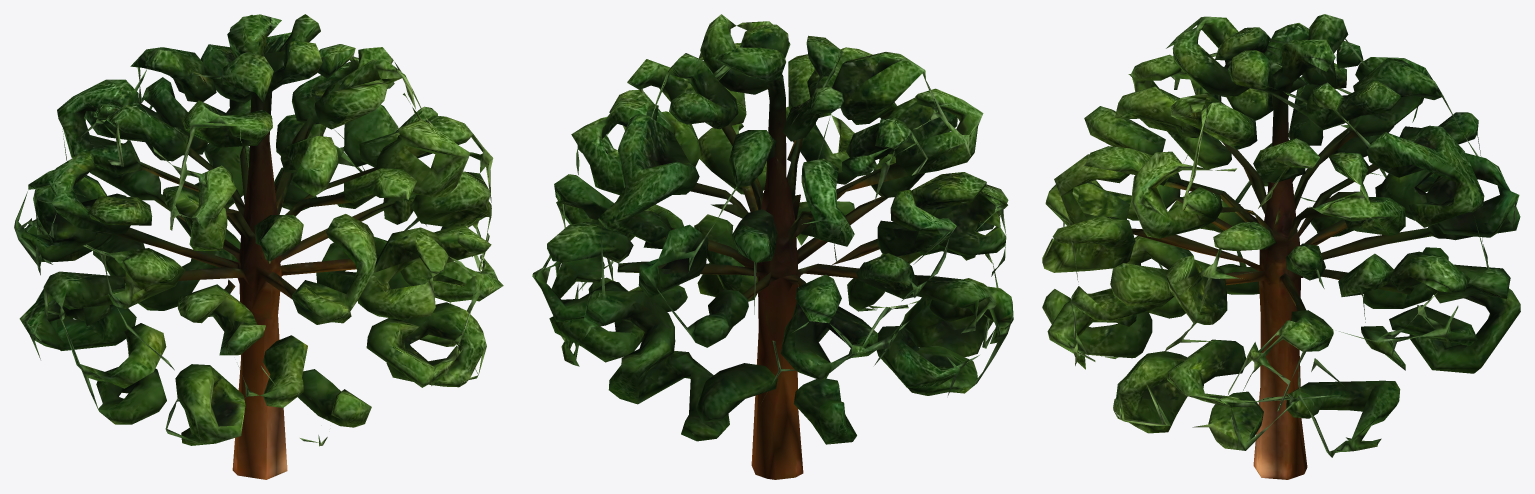
The model's file is roundtree-3.glb.
3 renders of one model, left to right at view 1: azimuth 30°, elevation 25°; view 2: azimuth 150°, elevation 25°; view 3: azimuth 270°, elevation 25°, orthographic.
Visible parts, largest first — view 1: tripo_node_32b8f1ef-17a1-46be-826f-8de912c16883; view 2: tripo_node_32b8f1ef-17a1-46be-826f-8de912c16883; view 3: tripo_node_32b8f1ef-17a1-46be-826f-8de912c16883.
Boxes of the visible parts, x1,y1,x2,y2 form: tripo_node_32b8f1ef-17a1-46be-826f-8de912c16883: (14, 14, 503, 479); tripo_node_32b8f1ef-17a1-46be-826f-8de912c16883: (532, 14, 1013, 479); tripo_node_32b8f1ef-17a1-46be-826f-8de912c16883: (1042, 14, 1520, 479).
Bounding box in the file's own units: 1 × 0.9792 × 0.9791.
1 material, 1 textured.
